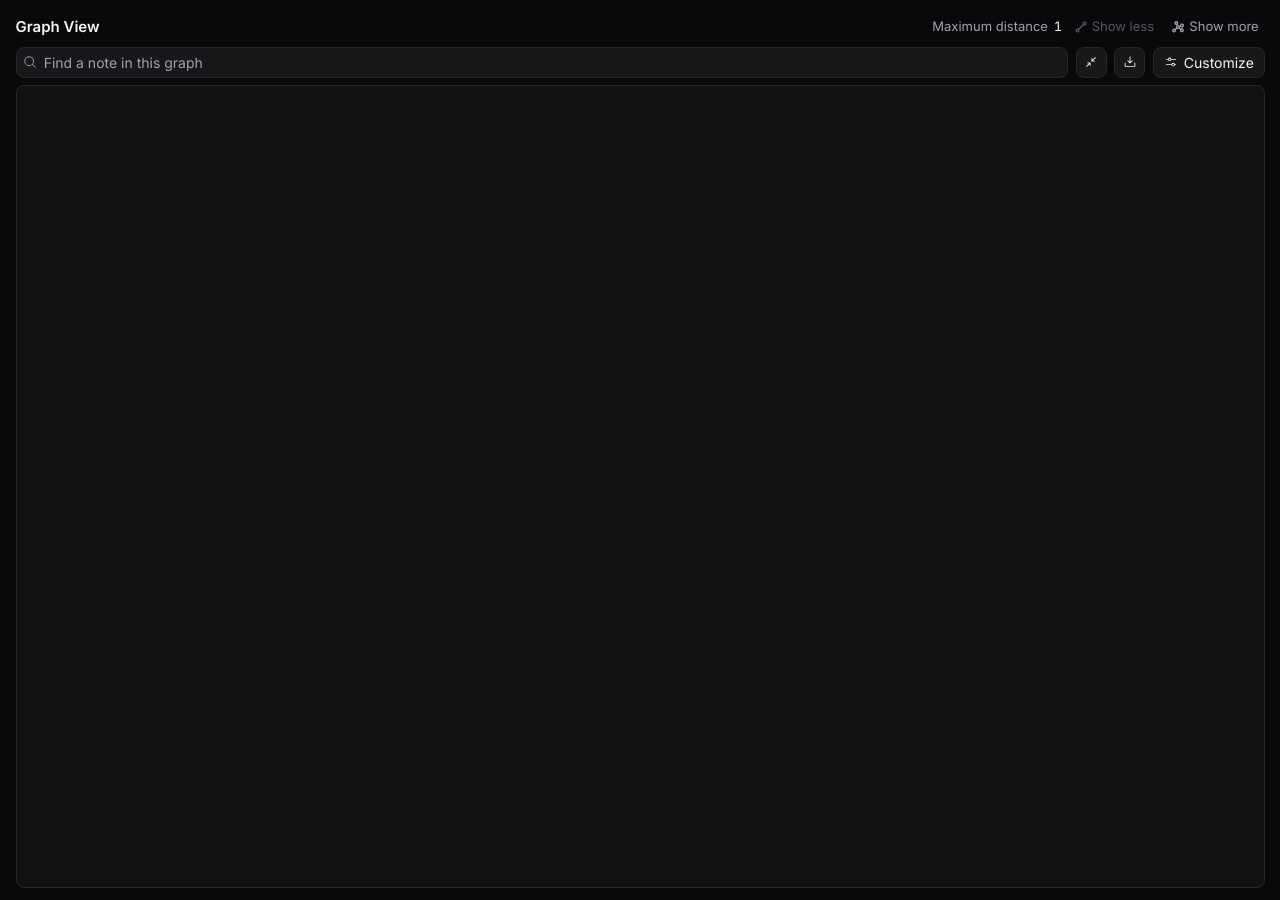
LocalGraphPanel › maximum distance runs 1–5 one step at a time, default 1 (hops)
Check: the text with test id "local-graph-hops" reads "1", box [1054,18,1062,34]
Click the button "Show more" at (1215, 27), box [1166,16,1264,39]
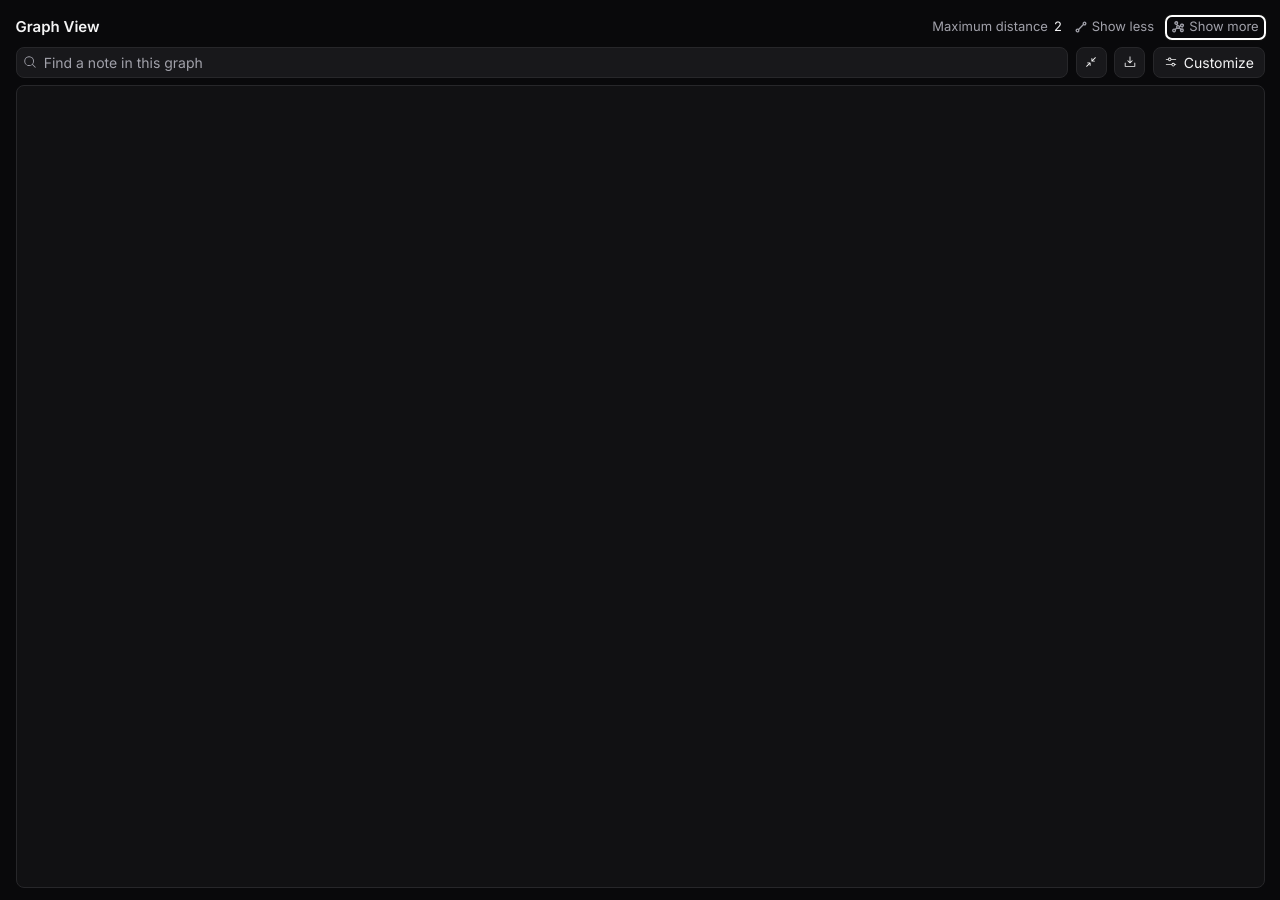
Check: the text with test id "local-graph-hops" reads "2", box [1054,18,1062,34]
Click the button "Show more" at (1215, 27), box [1166,16,1264,39]
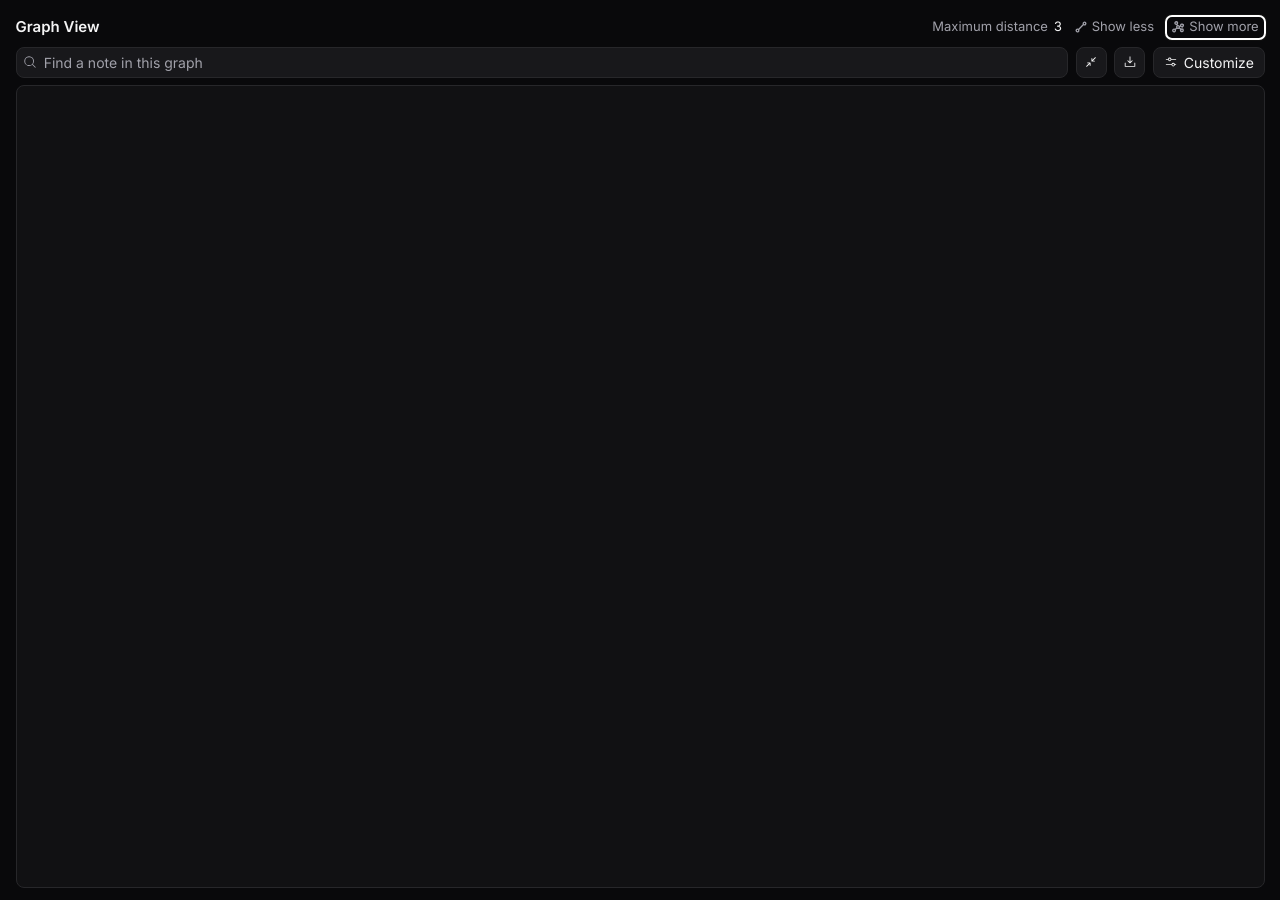
Check: the text with test id "local-graph-hops" reads "3", box [1054,18,1062,34]
Click the button "Show more" at (1215, 27), box [1166,16,1264,39]
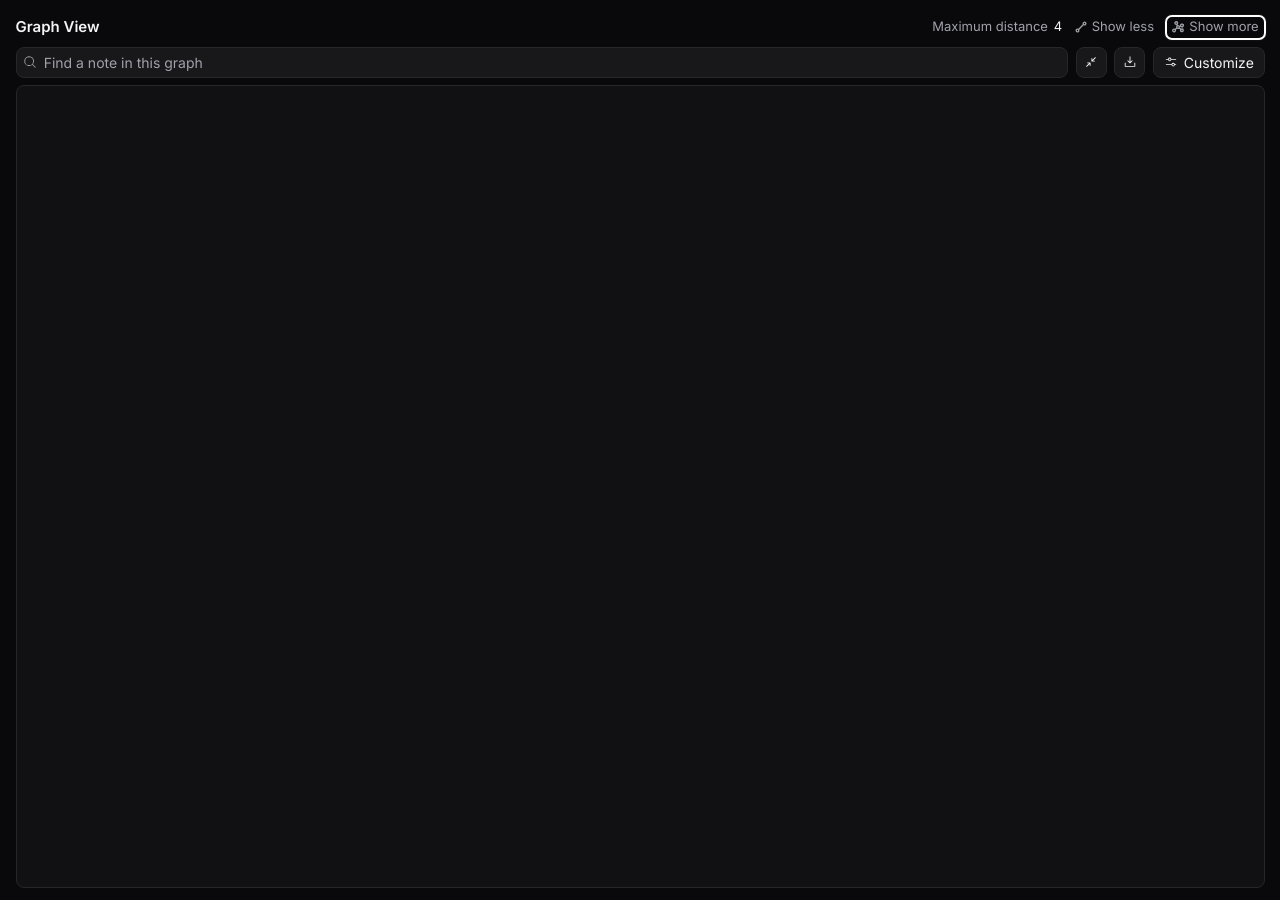
Check: the text with test id "local-graph-hops" reads "4", box [1054,18,1062,34]
Click the button "Show more" at (1215, 27), box [1166,16,1264,39]
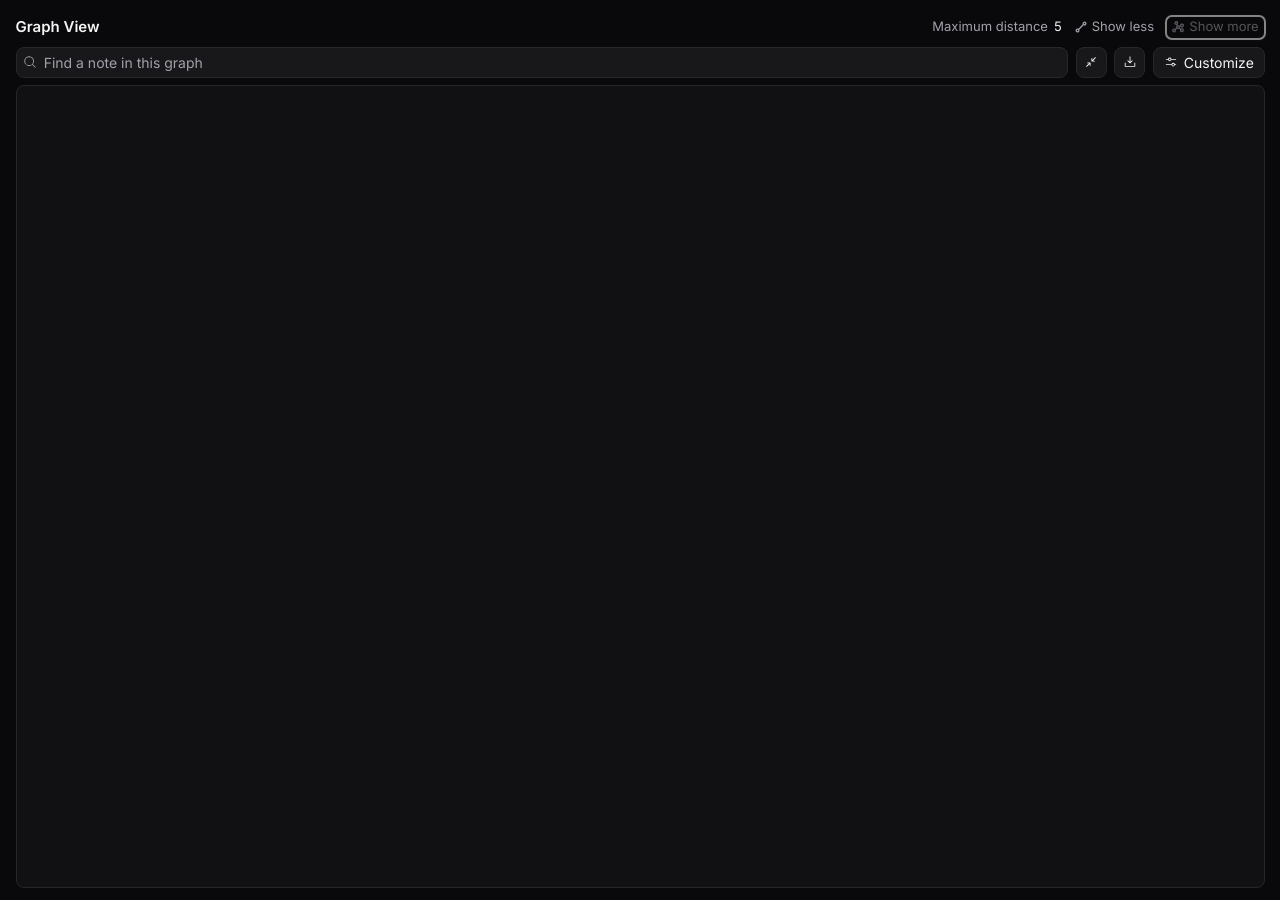
Check: the text with test id "local-graph-hops" reads "5", box [1054,18,1062,34]
Click the button "Show less" at (1114, 27), box [1068,16,1160,39]
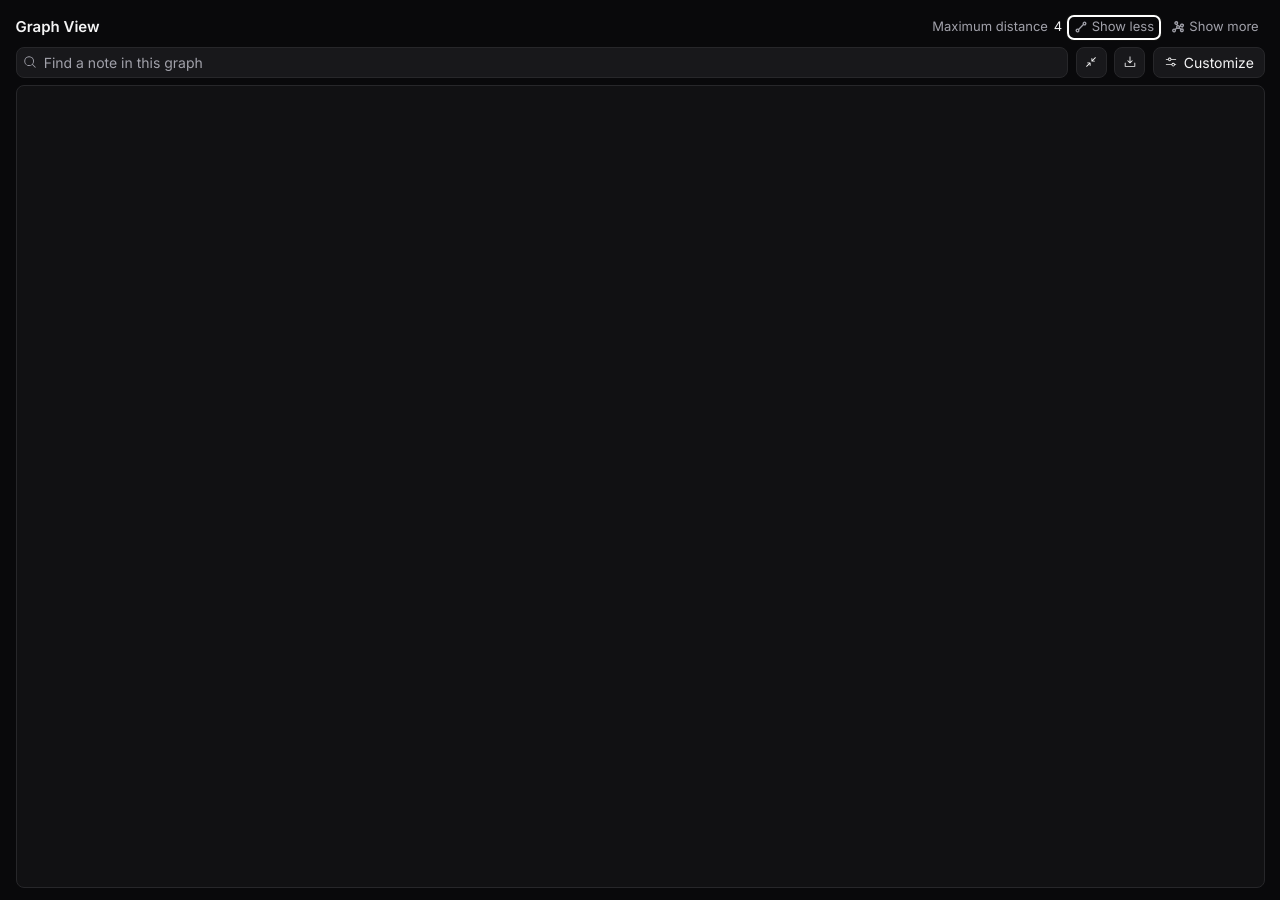
Check: the text with test id "local-graph-hops" reads "4", box [1054,18,1062,34]
